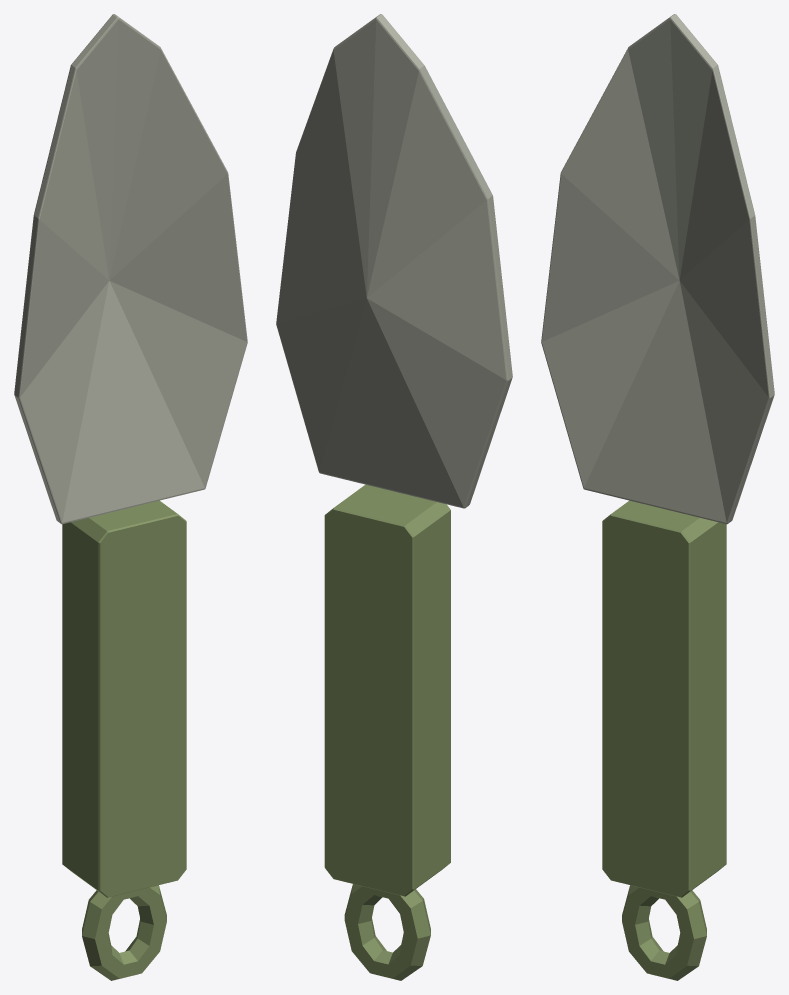
File: hand_trowel.glb
3 views of the same model, side by side, from view 1: azimuth 30°, elevation 25°; view 2: azimuth 150°, elevation 25°; view 3: azimuth 330°, elevation 25° (orthographic).
Parts seen in each view (by area): view 1: hand_trowel; view 2: hand_trowel; view 3: hand_trowel.
Boxes of the visible parts, x1,y1,x2,y2 form: hand_trowel: [14, 14, 247, 980]; hand_trowel: [276, 14, 512, 980]; hand_trowel: [541, 14, 774, 980].
Size of the model in its own units: 0.07 by 0.279 by 0.021.
